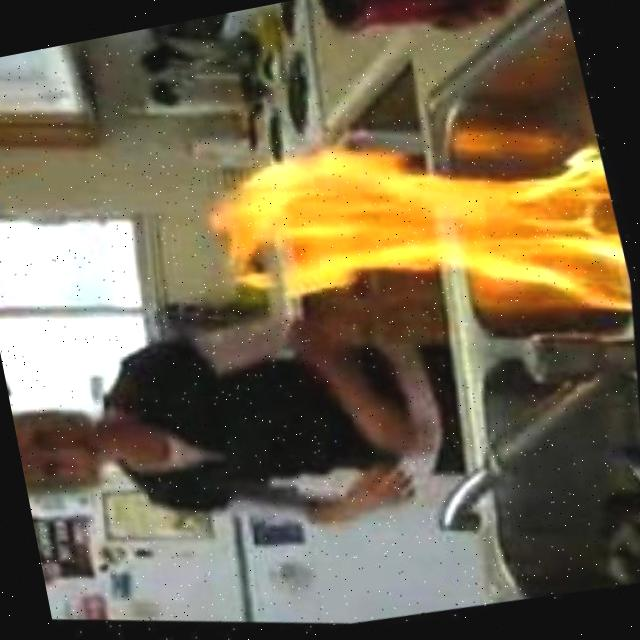fire: (184, 70, 640, 393)
